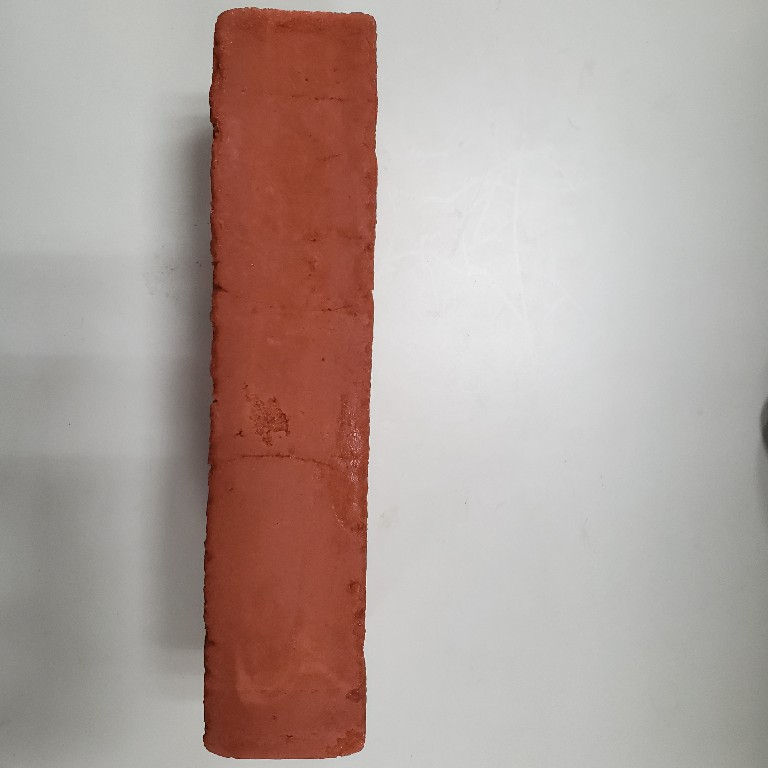brick: (201, 3, 374, 768)
